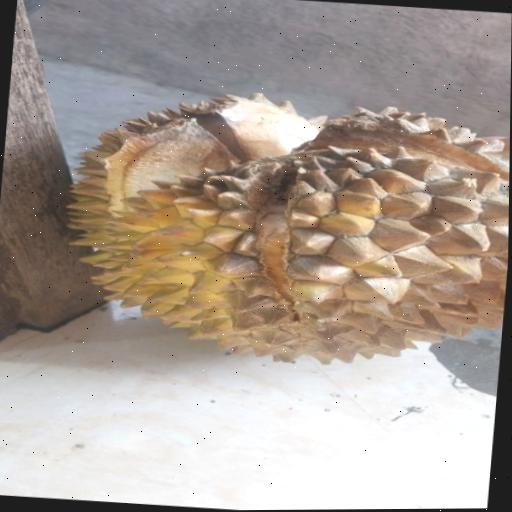rot: (27, 65, 511, 394)
